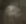limite 60: (4, 1, 21, 21)
